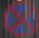No Stopping: (2, 0, 38, 36)
